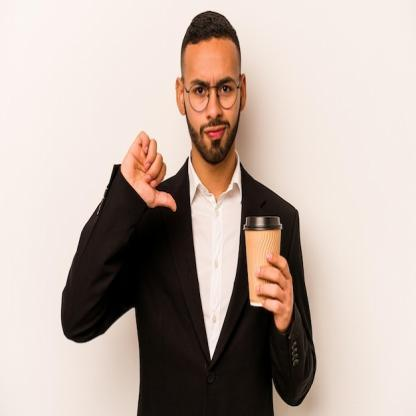thumb_down: (120, 126, 179, 216)
